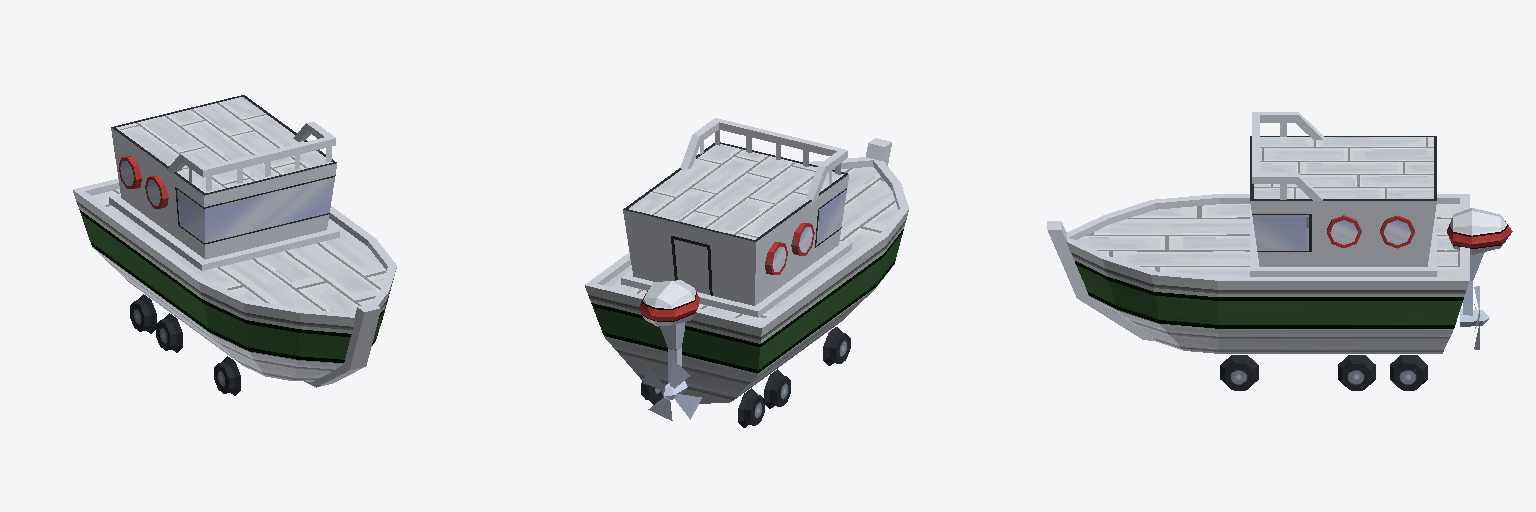
3 renders of one model, left to right at view 1: azimuth 30°, elevation 25°; view 2: azimuth 150°, elevation 25°; view 3: azimuth 270°, elevation 25°, orthographic.
Parts seen in each view (by area): view 1: mesh0339; view 2: mesh0339; view 3: mesh0339.
Boxes of the visible parts, <box> form: mesh0339: <box>73,95,396,395</box>; mesh0339: <box>585,118,908,427</box>; mesh0339: <box>1047,112,1512,390</box>.
Bounding box in the file's own units: 2.96 × 3.56 × 6.71.
Materials: 1 (1 with a texture image).